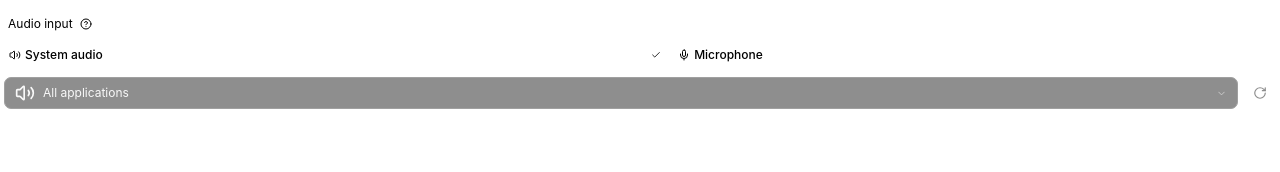
Test: explains a known microphone permission failure without exposing raw errors
Click the switch labelled "Microphone": [728, 54] box [673, 39, 1276, 71]
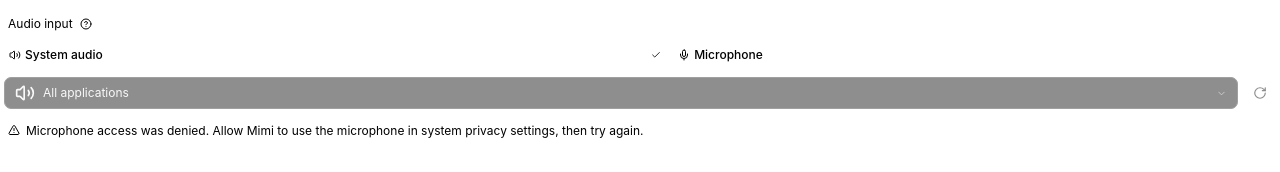
Result: the message shows "system privacy settings" at [26, 123, 644, 138]
